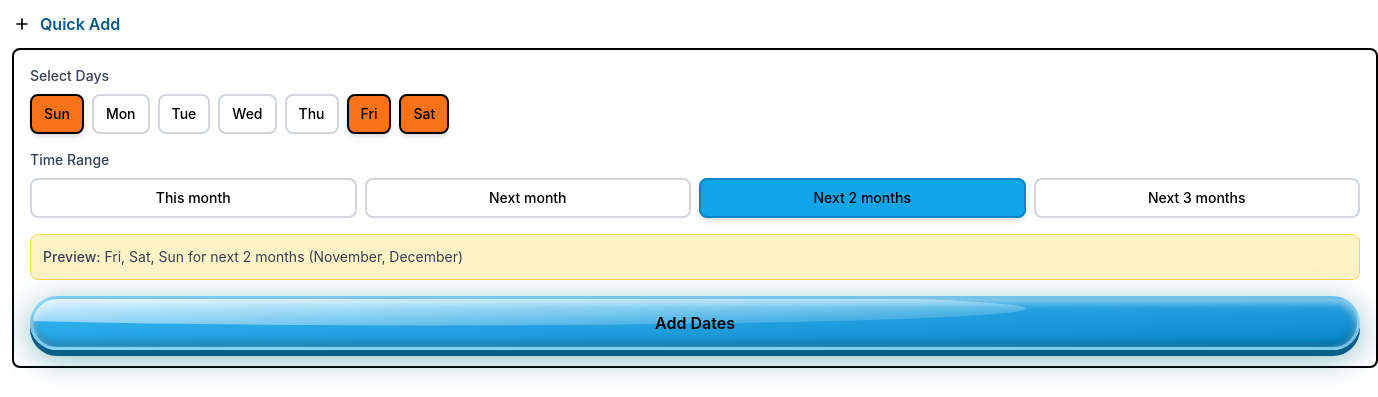
QuickAddBuilder › should disable Add button when no days are selected
The image size is (1378, 397).
Note: Deselect all days
Click the button "Fri": (369, 114) [346, 94, 392, 134]
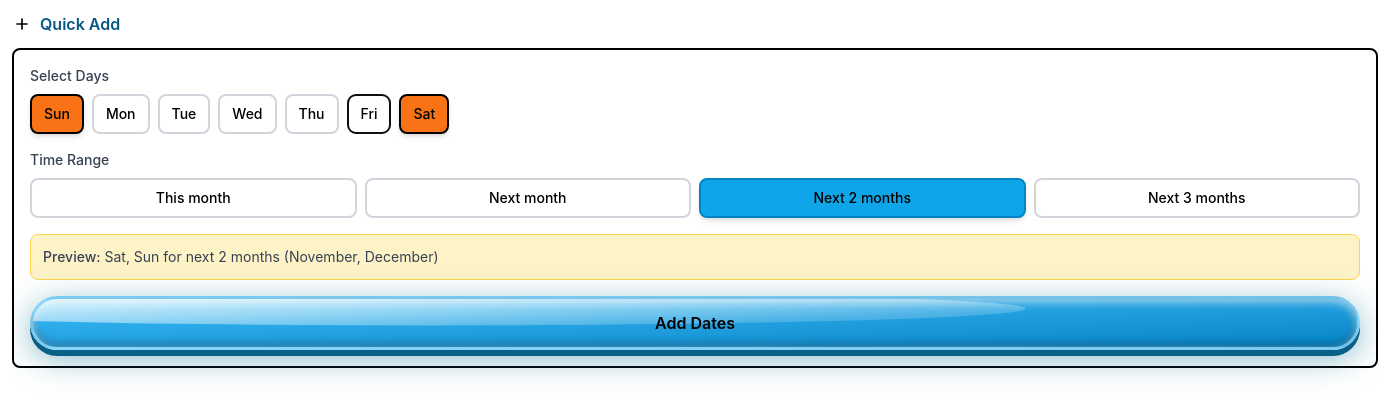
Click the button "Sat": (424, 114) [400, 94, 449, 134]
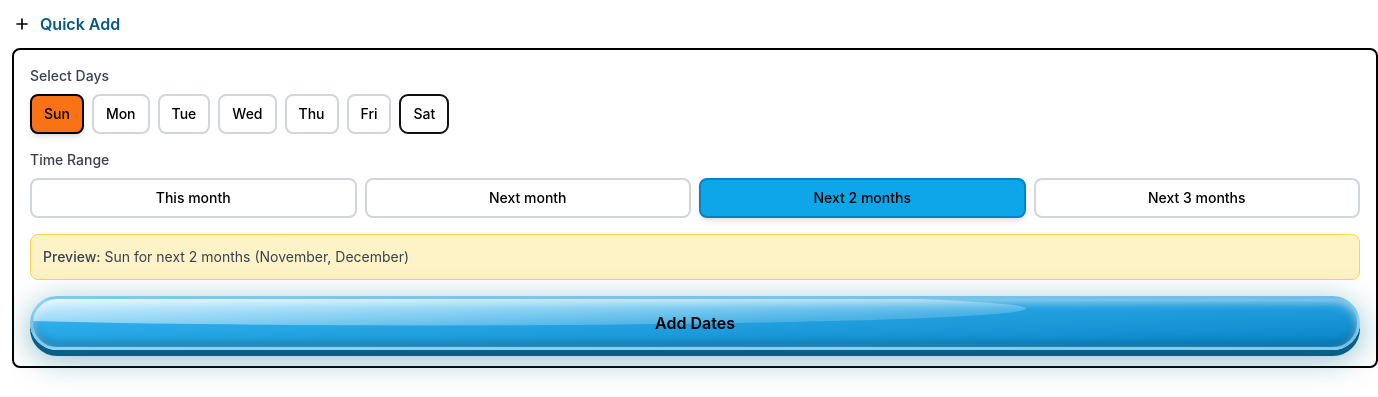
Click the button "Sun": (57, 114) [30, 94, 84, 134]
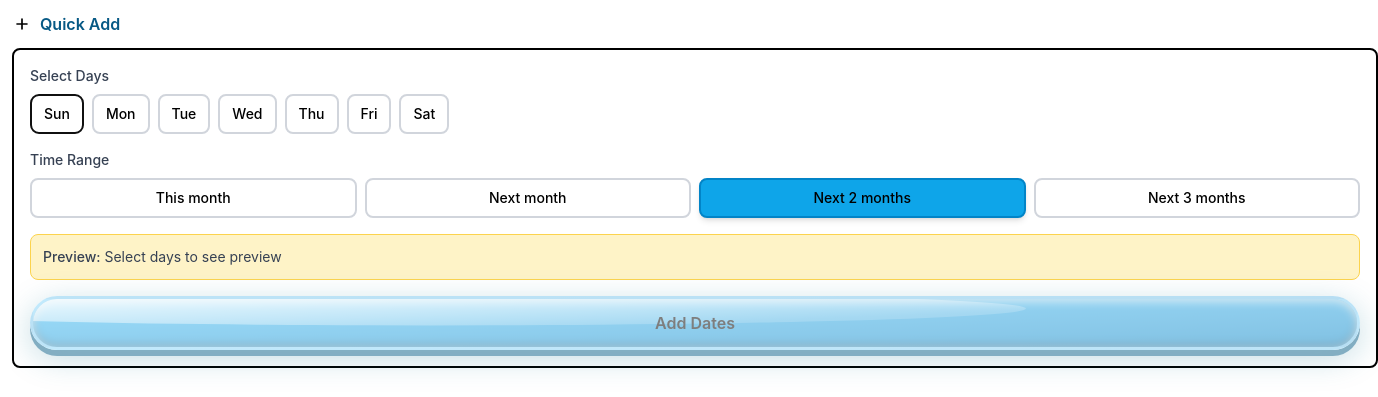
Result: the button "Add Dates" is disabled at [30, 296, 1360, 350]
